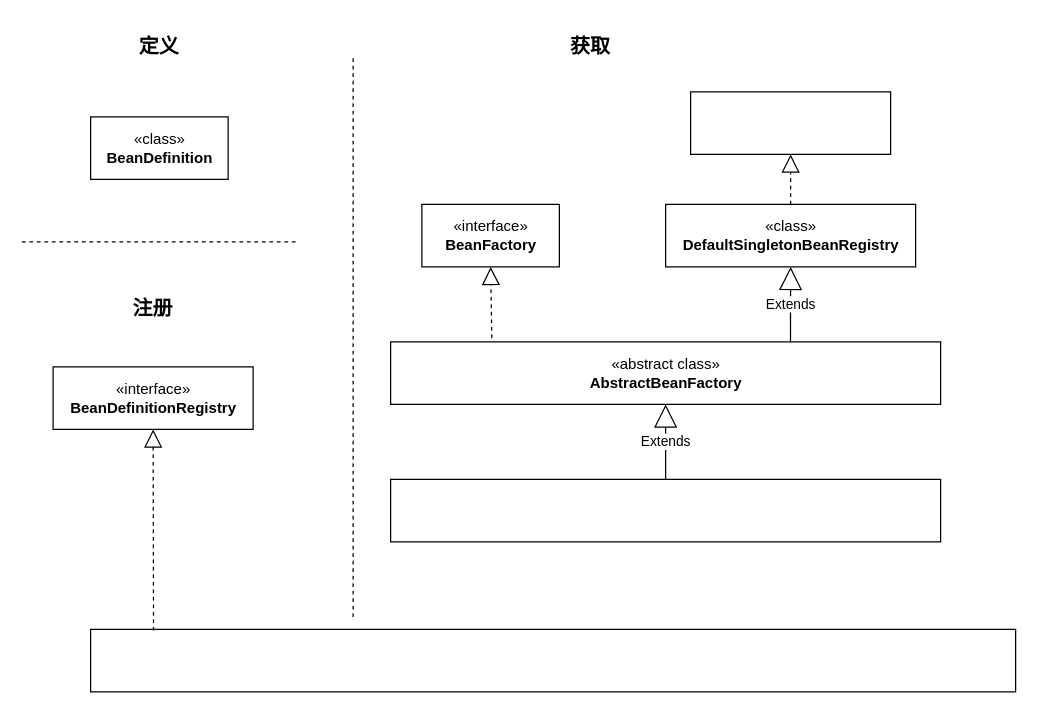
Some shapes in this 1038 by 714 pixel diagram are drawn without their labels. The shapes that lost their labels are listed below. From the top down, each one's centre as x and y in pixels, then its label:
At (790,122): "«interface» SingletonBeanRegistry".
At (665,510): "«abstract class» AbstractAutowireCapableBeanFactory".
At (552,660): "«class» DefaultListableBeanFactory".
